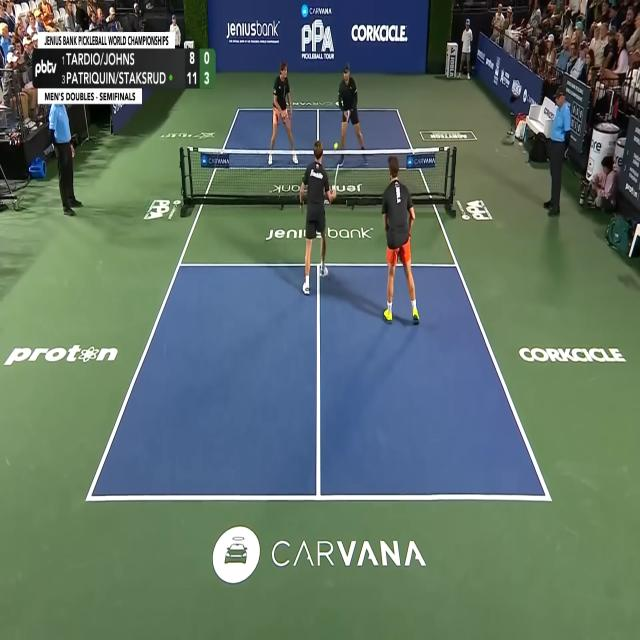ball: (334, 142, 338, 150)
